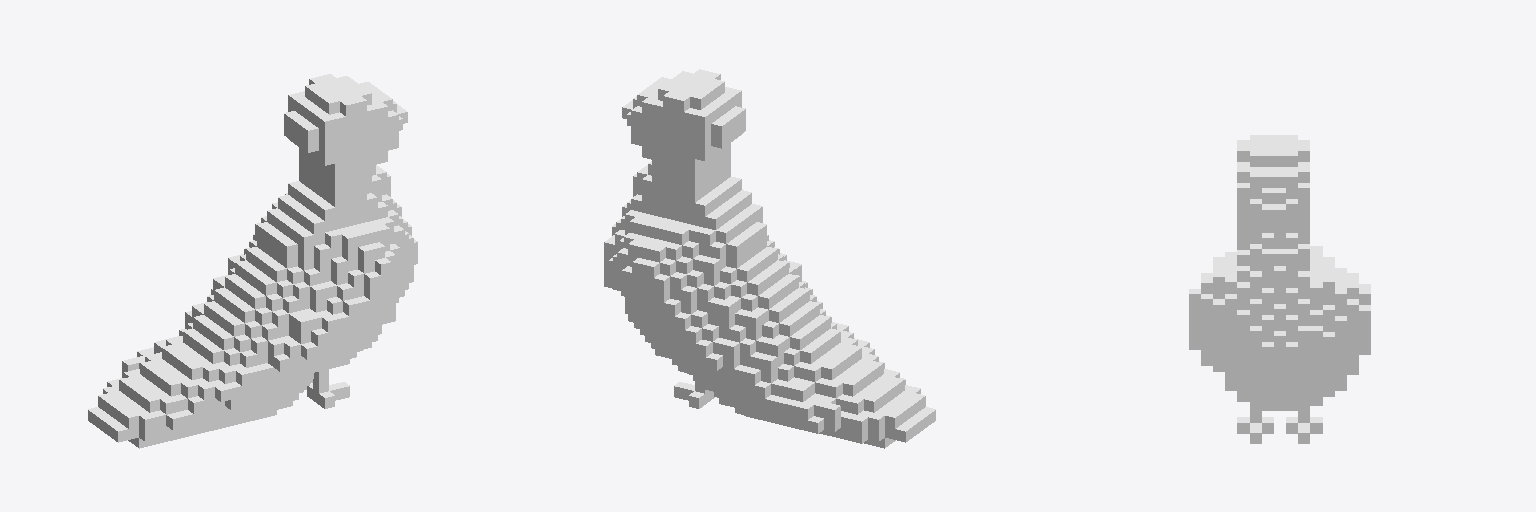
Rendered from PIGEON.obj.
3 renders of one model, left to right at view 1: azimuth 30°, elevation 25°; view 2: azimuth 150°, elevation 25°; view 3: azimuth 270°, elevation 25°, orthographic.
Visible parts, largest first — view 1: object 1; view 2: object 1; view 3: object 1.
Boxes of the visible parts, <box> form: object 1: <box>88,74,417,448</box>; object 1: <box>604,69,935,448</box>; object 1: <box>1189,135,1370,443</box>.
Size of the model in its own units: 2.9 by 2.7 by 1.5.